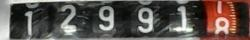digits: (18, 8, 52, 40), (172, 1, 196, 35), (136, 6, 154, 32), (97, 5, 114, 30), (60, 4, 77, 28), (207, 0, 223, 18)
